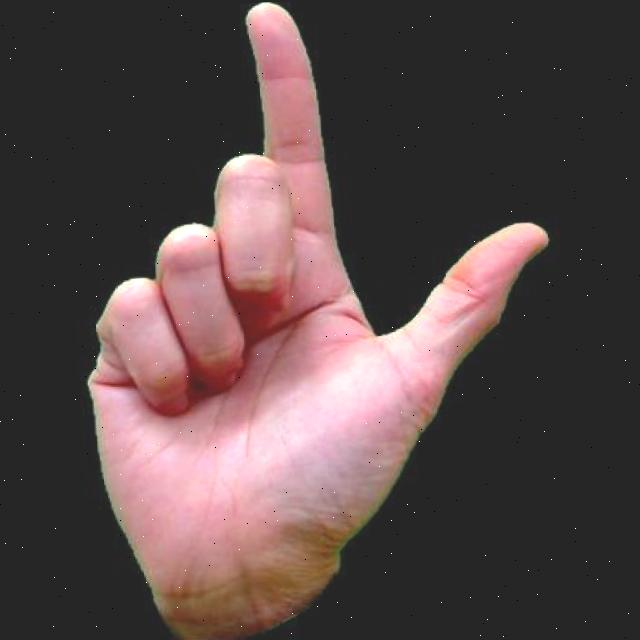l: (57, 0, 578, 640)
